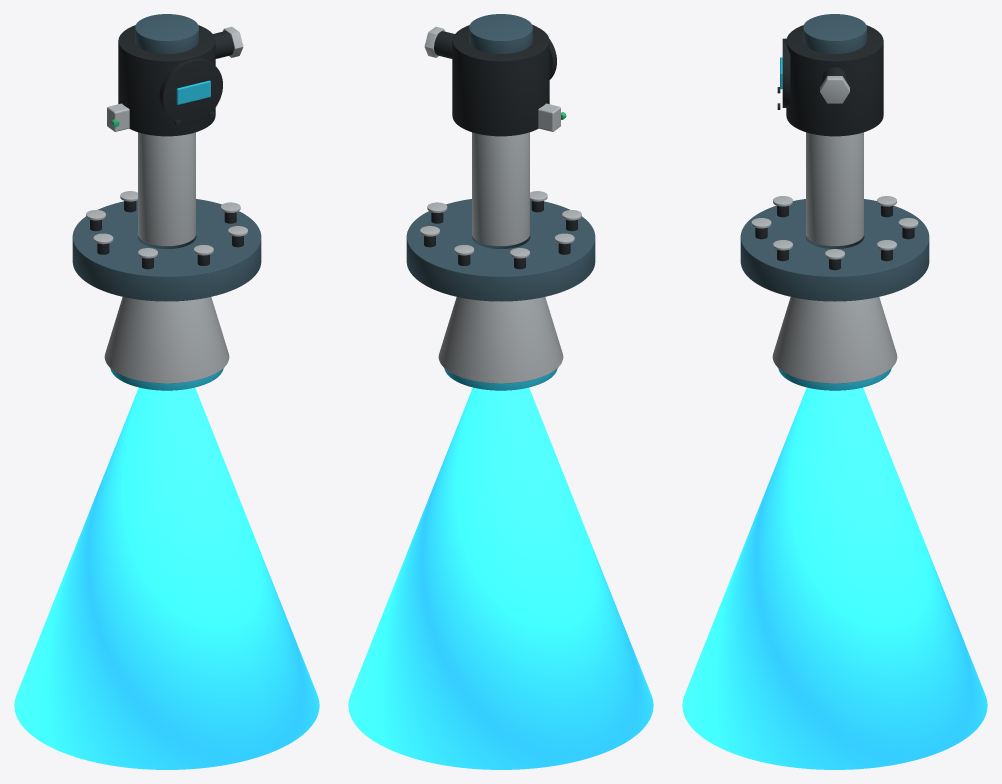
The model's file is radar_level_transmitter.glb.
The picture shows the model from 3 angles, left to right: view 1: azimuth 30°, elevation 25°; view 2: azimuth 150°, elevation 25°; view 3: azimuth 270°, elevation 25°; orthographic projection.
Parts seen in each view (by area): view 1: KIN_radar_beam, PROCESS_flange, ANTENNA_horn, PROCESS_neck, RADAR_head, DISPLAY_bezel, TERMINAL_cover, ANTENNA_dielectric_lens, DISPLAY_window, GROUND_lug; view 2: KIN_radar_beam, PROCESS_flange, ANTENNA_horn, RADAR_head, PROCESS_neck, TERMINAL_cover, ANTENNA_dielectric_lens, GROUND_lug; view 3: KIN_radar_beam, PROCESS_flange, ANTENNA_horn, RADAR_head, PROCESS_neck, TERMINAL_cover, ANTENNA_dielectric_lens, CABLE_gland_nut, DISPLAY_bezel.
Boxes of the visible parts, x1,y1,x2,y2 form: KIN_radar_beam: (14,387,319,769); PROCESS_flange: (72,199,261,301); ANTENNA_horn: (104,297,229,383); PROCESS_neck: (138,132,195,246); RADAR_head: (118,25,215,136); DISPLAY_bezel: (159,58,222,124); TERMINAL_cover: (135,14,198,53); ANTENNA_dielectric_lens: (110,368,223,390); DISPLAY_window: (176,80,210,104); GROUND_lug: (107,103,129,131); KIN_radar_beam: (348,387,653,769); PROCESS_flange: (406,199,595,301); ANTENNA_horn: (438,297,563,383); RADAR_head: (452,25,549,136); PROCESS_neck: (472,132,529,246); TERMINAL_cover: (469,14,532,53); ANTENNA_dielectric_lens: (444,368,557,390); GROUND_lug: (538,103,560,131); KIN_radar_beam: (682,387,987,769); PROCESS_flange: (740,199,929,301); ANTENNA_horn: (772,297,897,383); RADAR_head: (786,25,883,136); PROCESS_neck: (806,132,863,246); TERMINAL_cover: (803,14,866,53); ANTENNA_dielectric_lens: (778,368,891,390); CABLE_gland_nut: (820,76,849,103); DISPLAY_bezel: (782,38,790,107).
Size of the model in its own units: 1.1 by 2.7 by 1.1.
